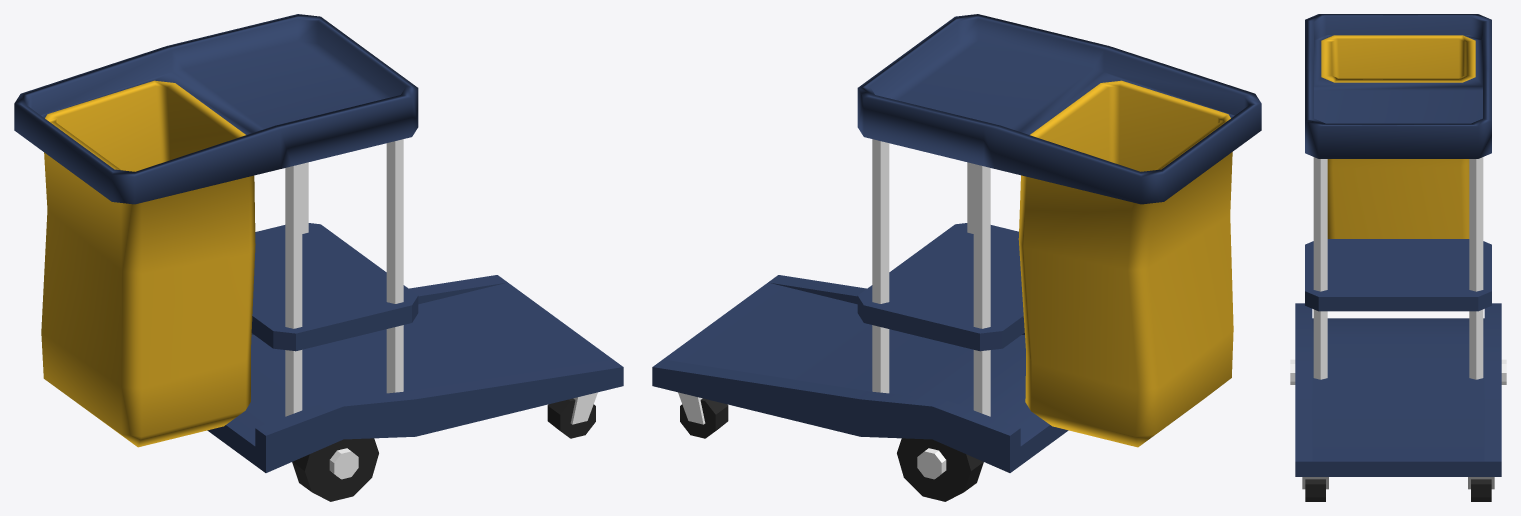
The model's file is cleaning_cart.glb.
3 views of the same model, side by side, from view 1: azimuth 30°, elevation 25°; view 2: azimuth 150°, elevation 25°; view 3: azimuth 270°, elevation 25° (orthographic). The views are drawn at different scales.
Parts seen in each view (by area): view 1: mesh_cleaningcart_01; view 2: mesh_cleaningcart_01; view 3: mesh_cleaningcart_01.
Boxes of the visible parts, x1,y1,x2,y2 form: mesh_cleaningcart_01: (14,14,623,501); mesh_cleaningcart_01: (652,14,1261,501); mesh_cleaningcart_01: (1290,14,1506,501).
Bounding box in the file's own units: 1.82 × 1.33 × 0.8355.
Materials: 1 (1 with a texture image).
